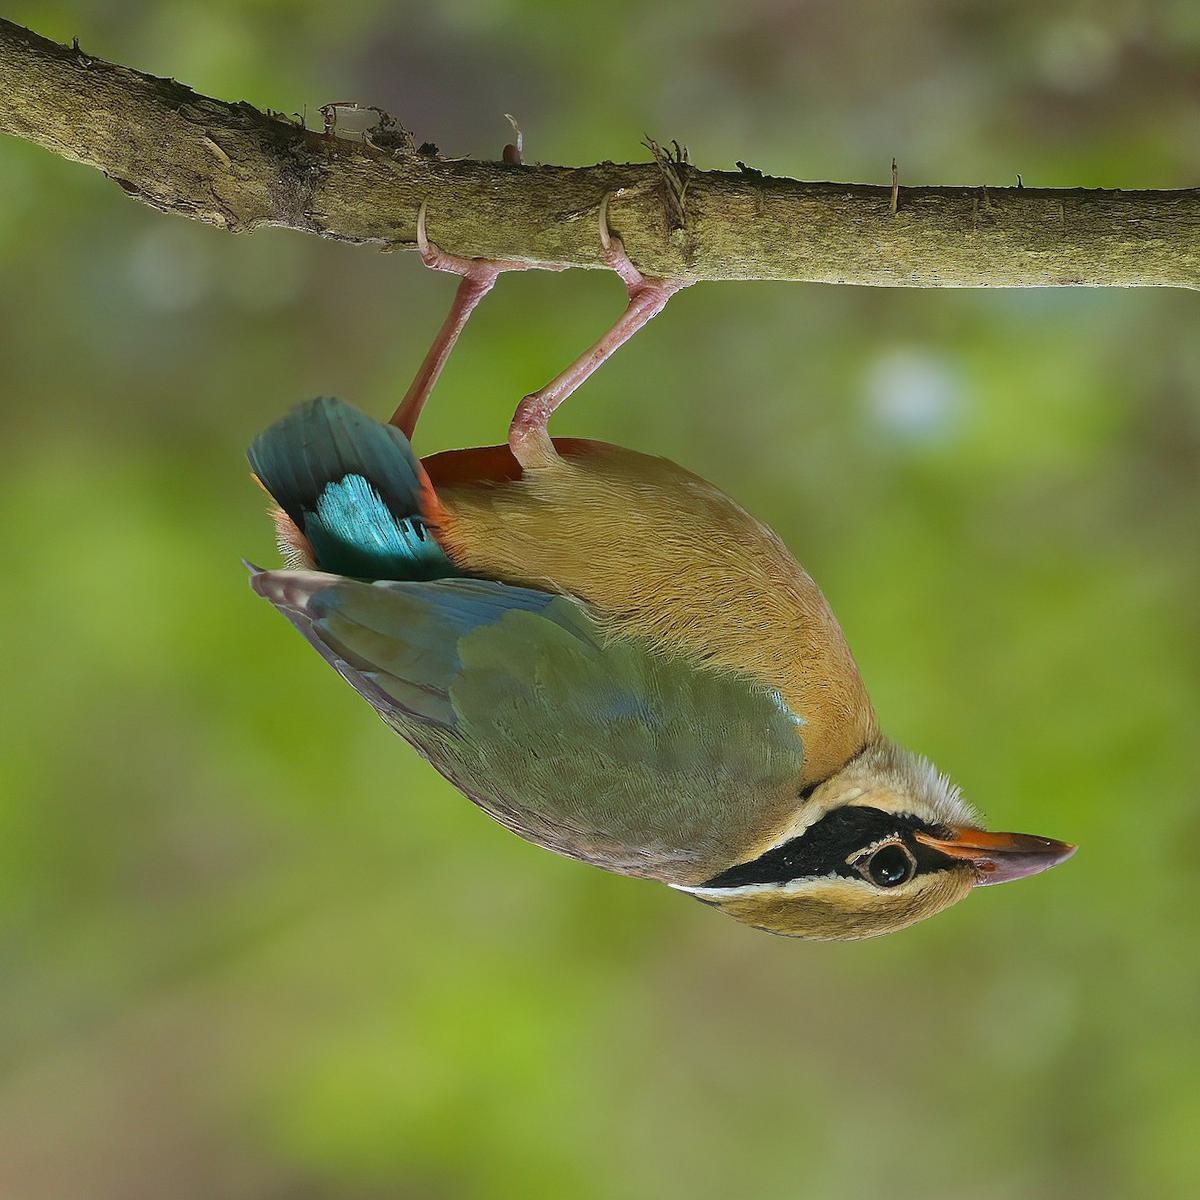pitta: (210, 212, 1087, 964)
